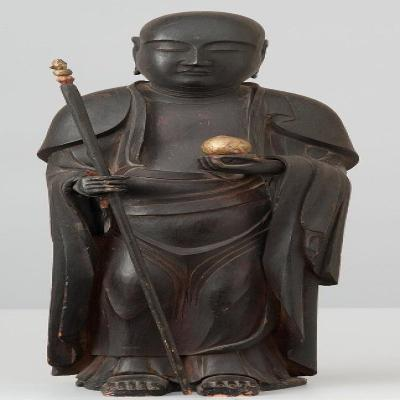sculpture: (36, 12, 359, 400)
